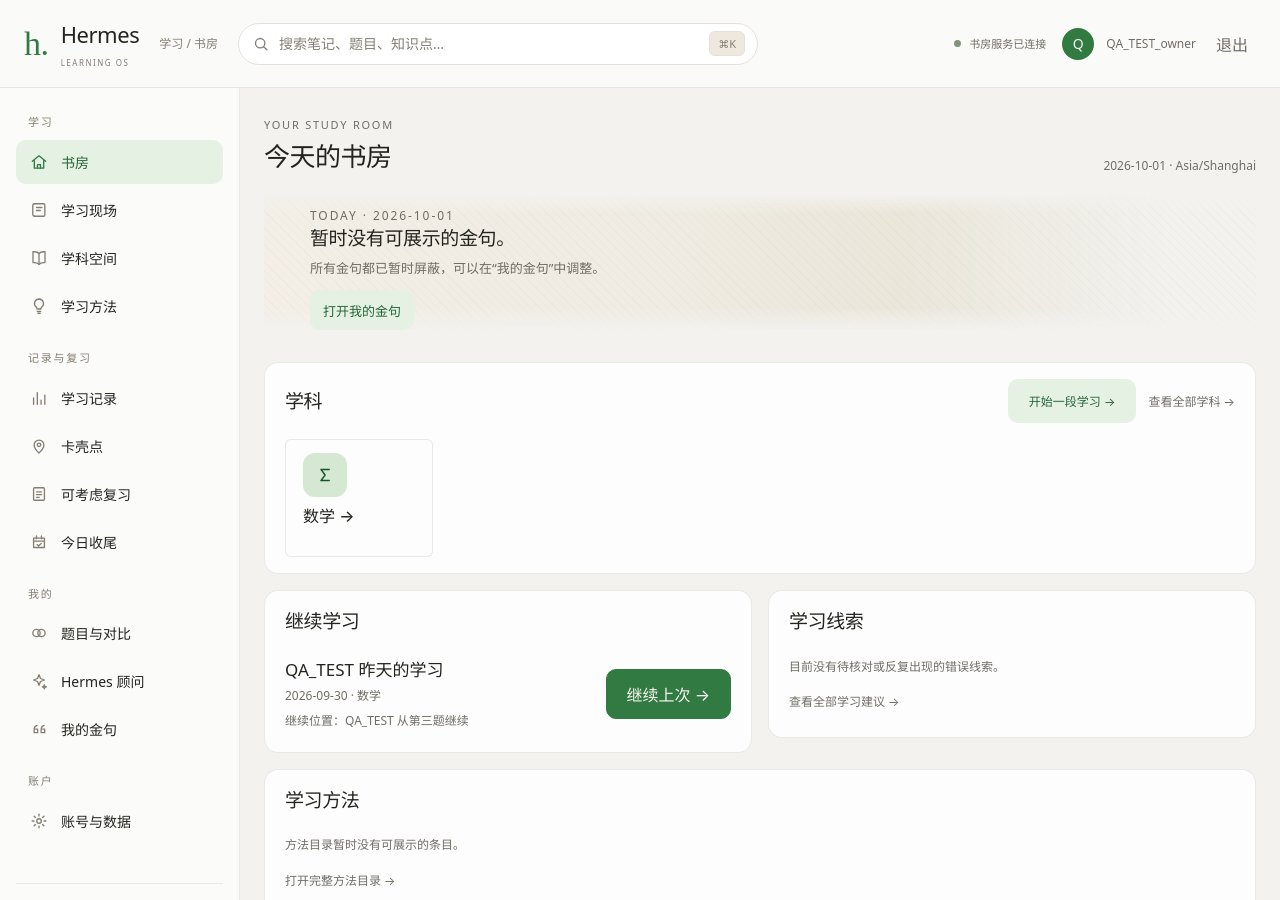
Scenario: continues an ended session only after confirmation and preserves a frozen start: false
The image size is (1280, 900).
Click the button "继续上次 →": [668, 694] box [606,669,731,719]
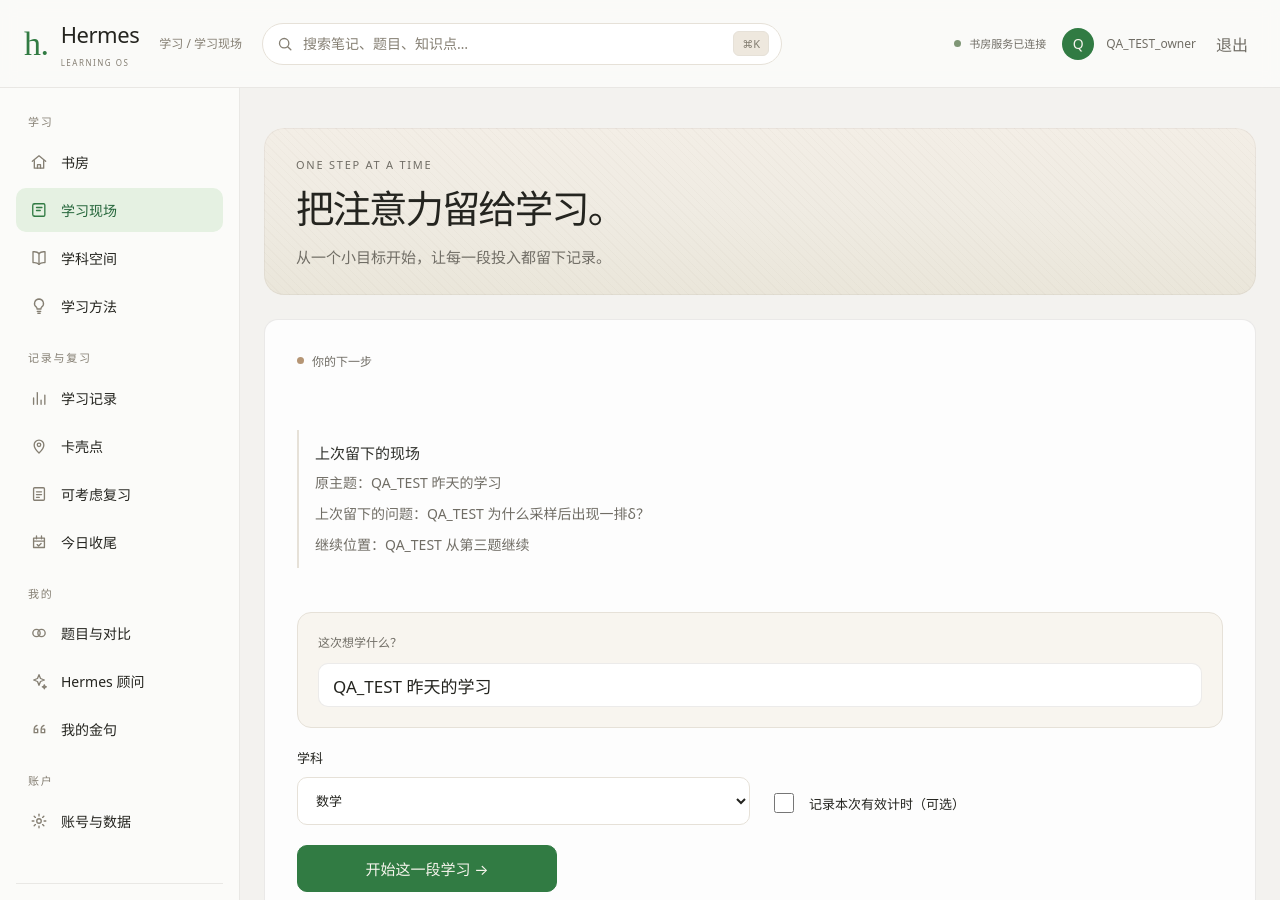
Expected: the text "原主题：QA_TEST 昨天的学习" is shown, [315,473,502,492]
Expected: the text "上次留下的问题：QA_TEST 为什么采样后出现一排δ？" is shown, [315,504,650,523]
Expected: the field labelled "这次想学什么？" holds "QA_TEST 昨天的学习", [318,663,1202,707]
Click the button "开始这一段学习 →": [427, 868] box [297,845,557,892]
(page scrolled)
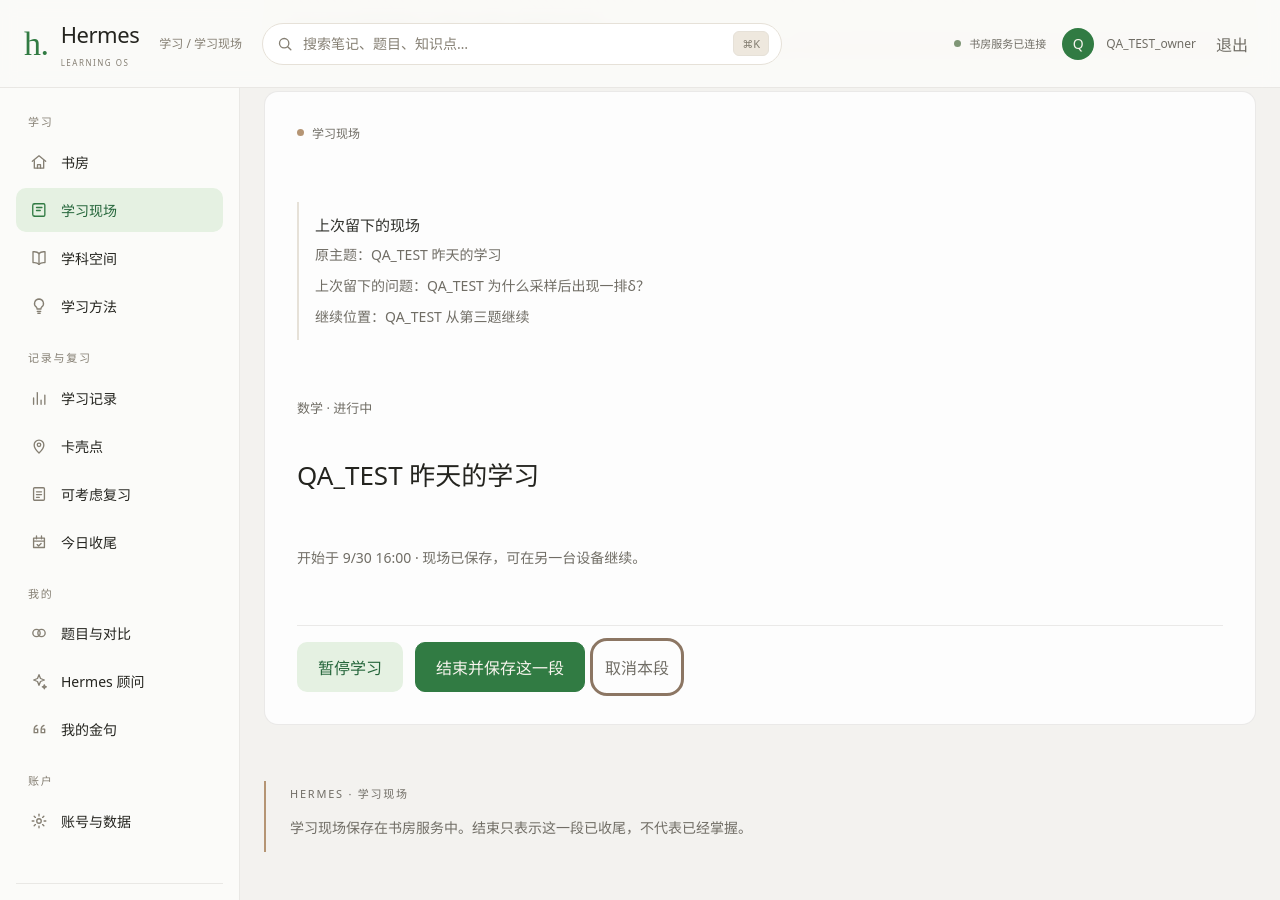
Expected: the button "暂停学习" is shown, [297,642,403,692]
